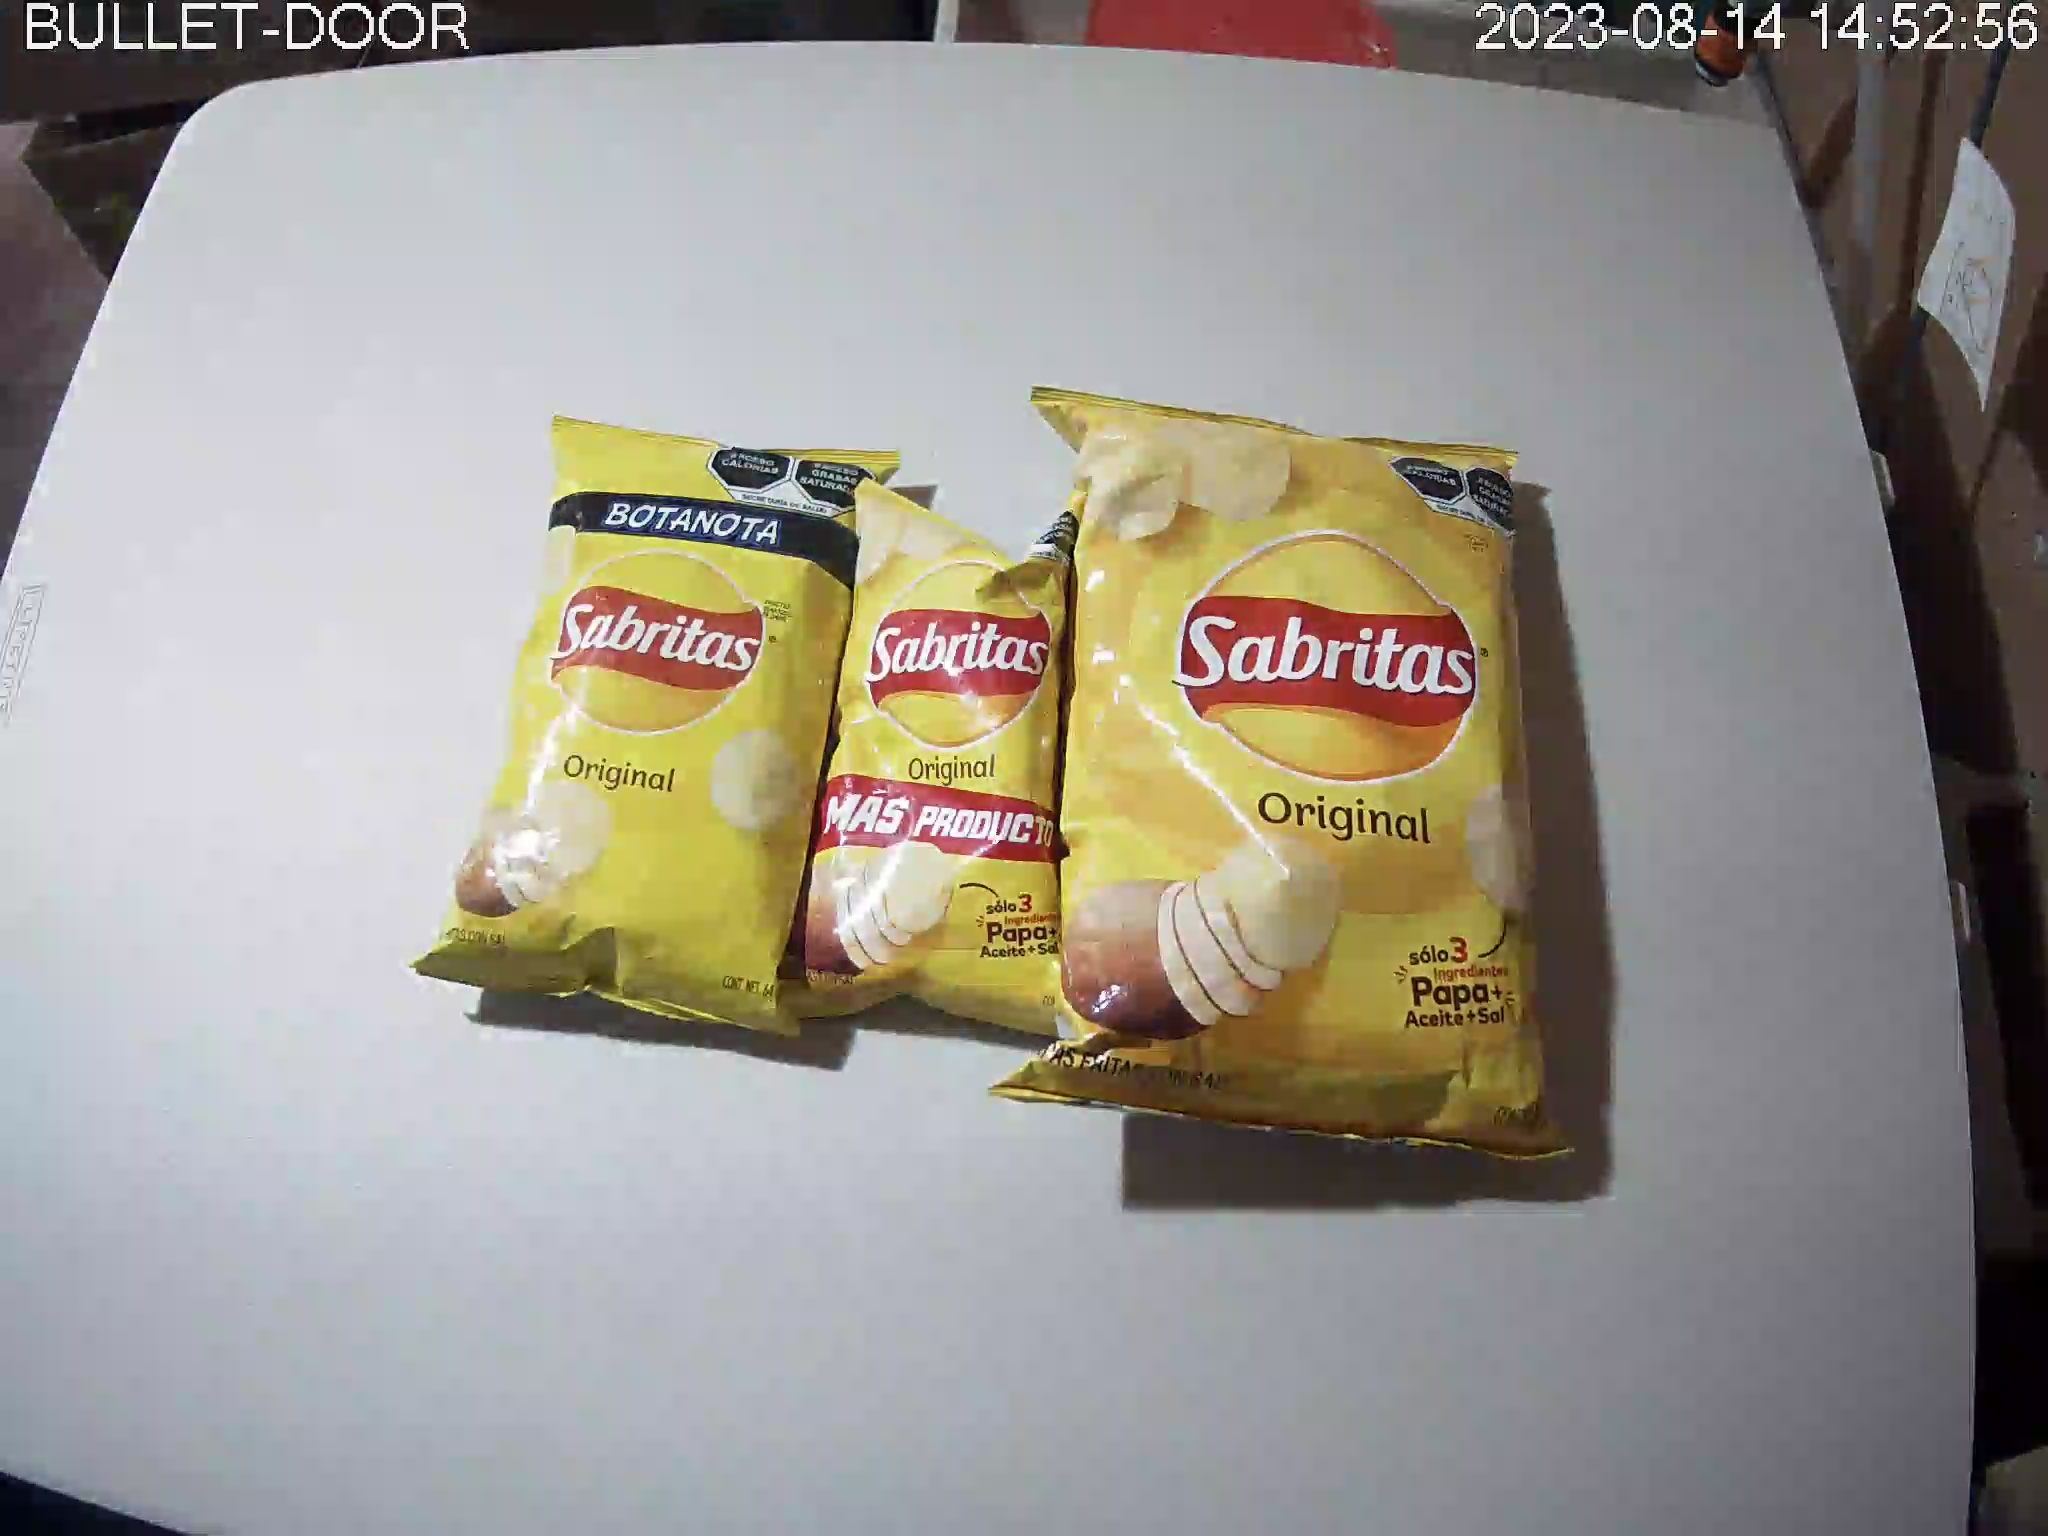Sabritas_160_F: (985, 390, 1577, 1163)
Sabritas_45_F: (768, 471, 1089, 1042)
Sabritas_64_F: (408, 411, 901, 1041)
